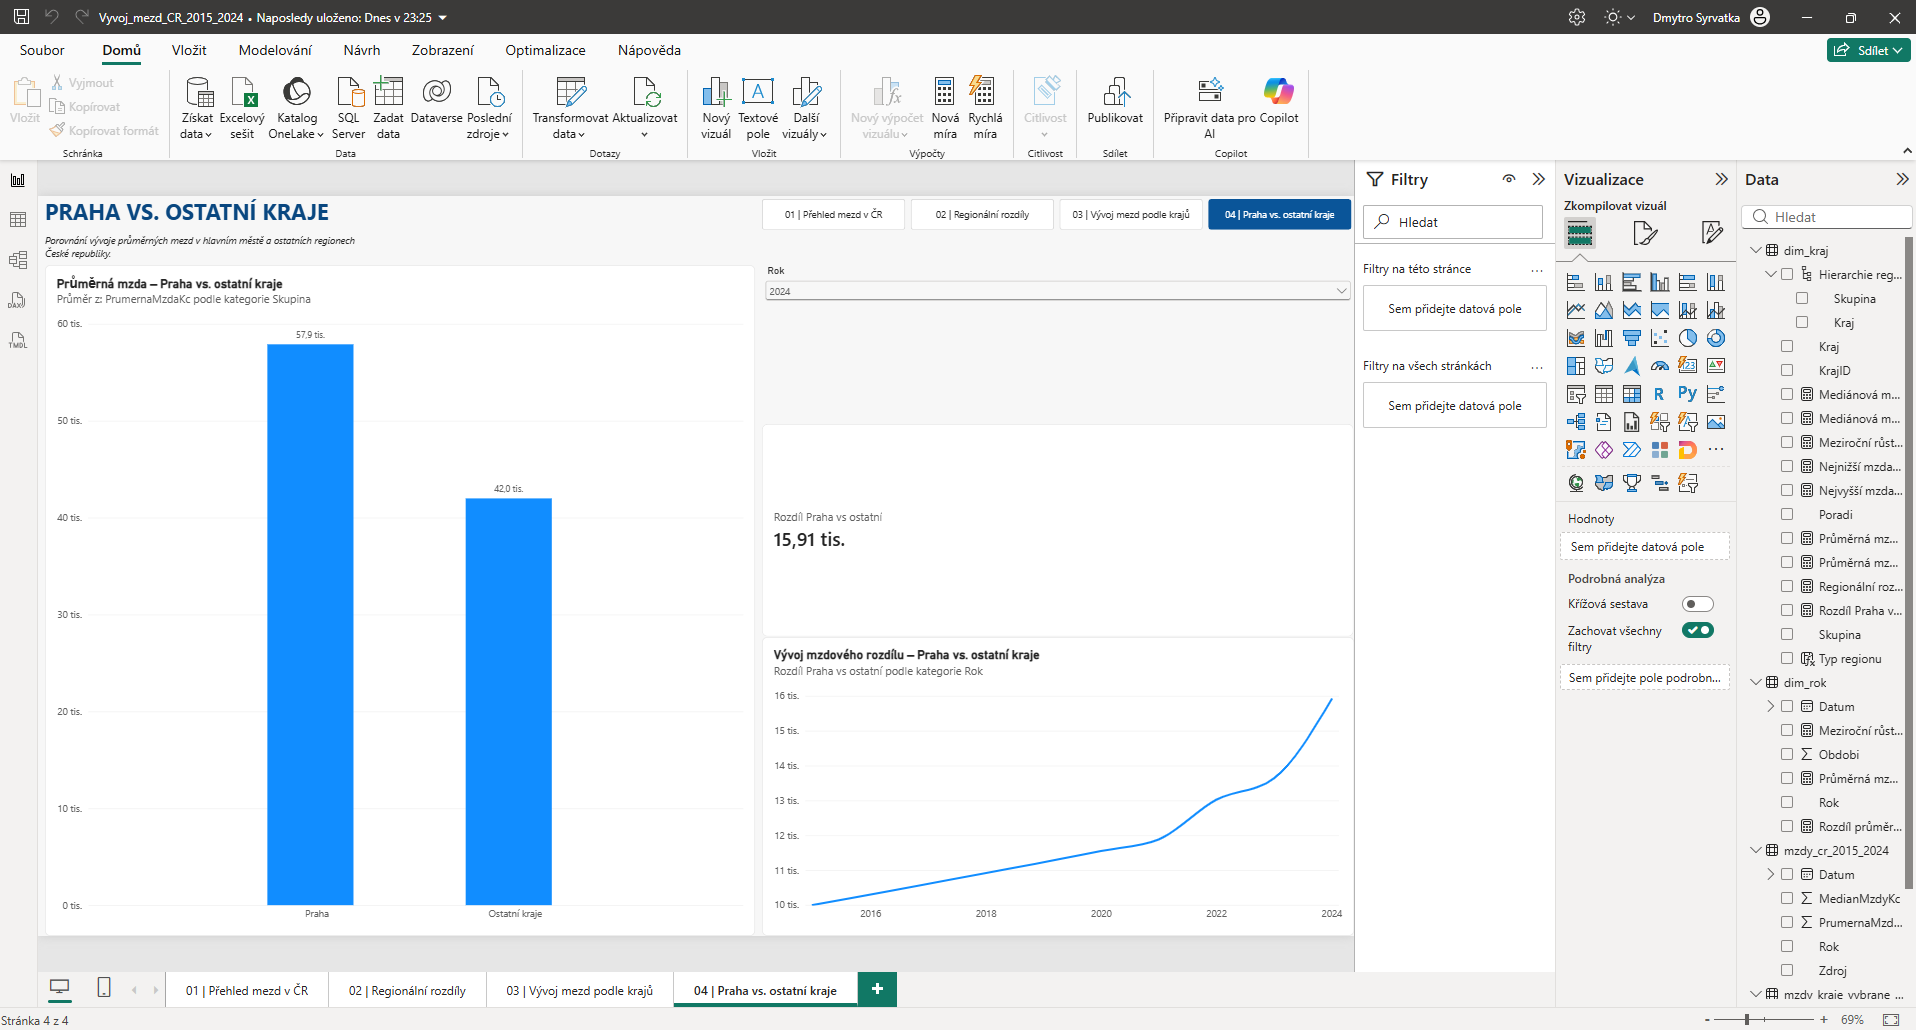

The dashboard page shown, as its layout file describes it:
{"tool":"powerbi","page":{"name":"04 | Praha vs. ostatní kraje","canvas":[1920,1080],"ordinal":3},"visuals":[{"type":"textbox","box":[10.2,0,464,55.4],"z":0},{"type":"textbox","box":[10.2,55.4,464,45.2],"z":1000},{"type":"clusteredColumnChart","title":"Průměrná mzda – Praha vs. ostatní kraje","fields":{"Category":["dim_kraj.Skupina"],"Y":["Avg(mzdy_kraje_vybrane_roky.PrumernaMzdaKc)"]},"box":[10.2,100.7,1035.9,979],"z":2000},{"type":"slicer","fields":{"Values":["dim_rok.Rok"]},"box":[1056.3,100.7,863.7,232],"z":3000},{"type":"cardVisual","fields":{"Data":["dim_kraj.Rozdíl Praha vs ostatní"]},"box":[1056.3,332.6,863.7,310.8],"z":4000},{"type":"lineChart","title":"Vývoj mzdového rozdílu – Praha vs. ostatní kraje","fields":{"Category":["dim_rok.Rok"],"Y":["dim_kraj.Rozdíl Praha vs ostatní"]},"box":[1056,644,864,436],"z":5000},{"type":"pageNavigator","box":[1056.3,4.4,863.7,45.2],"z":6000}]}

Visuals, with their boxes on the page's 1920x1080 design canvas (x1, y1, x2, y2). These are canvas units, not pixel positions in the 1916x1030 screenshot, which may show the page scaled, cropped or inside an application window:
textbox: bbox=[10, 0, 474, 55]
textbox: bbox=[10, 55, 474, 101]
"Průměrná mzda – Praha vs. ostatní kraje" clusteredColumnChart: bbox=[10, 101, 1046, 1080]
slicer - dim_rok.Rok: bbox=[1056, 101, 1920, 333]
cardVisual - dim_kraj.Rozdíl Praha vs ostatní: bbox=[1056, 333, 1920, 643]
"Vývoj mzdového rozdílu – Praha vs. ostatní kraje" lineChart: bbox=[1056, 644, 1920, 1080]
pageNavigator: bbox=[1056, 4, 1920, 50]
